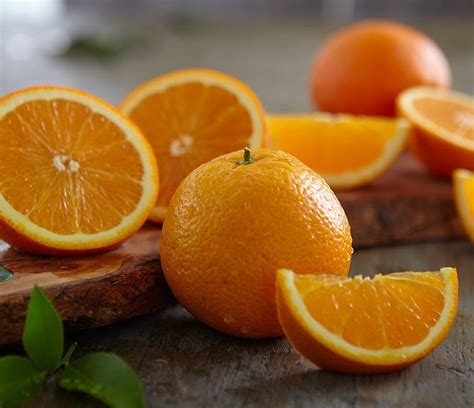orange: (162, 143, 356, 342)
